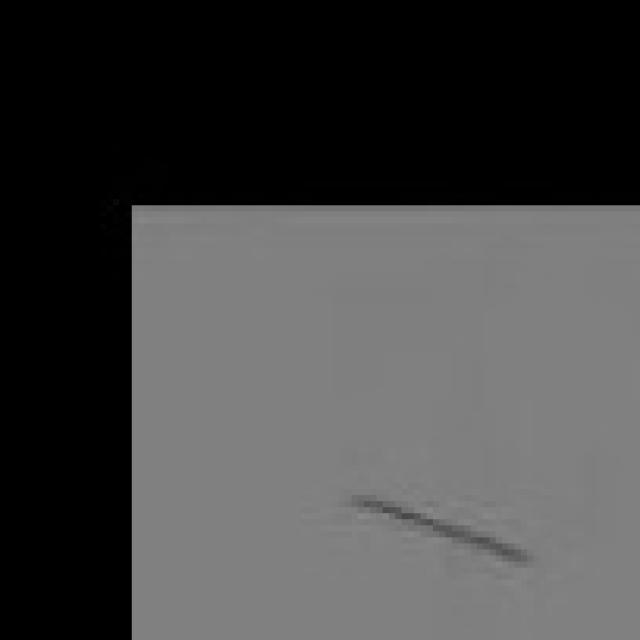Defect4: (336, 453, 549, 599)
